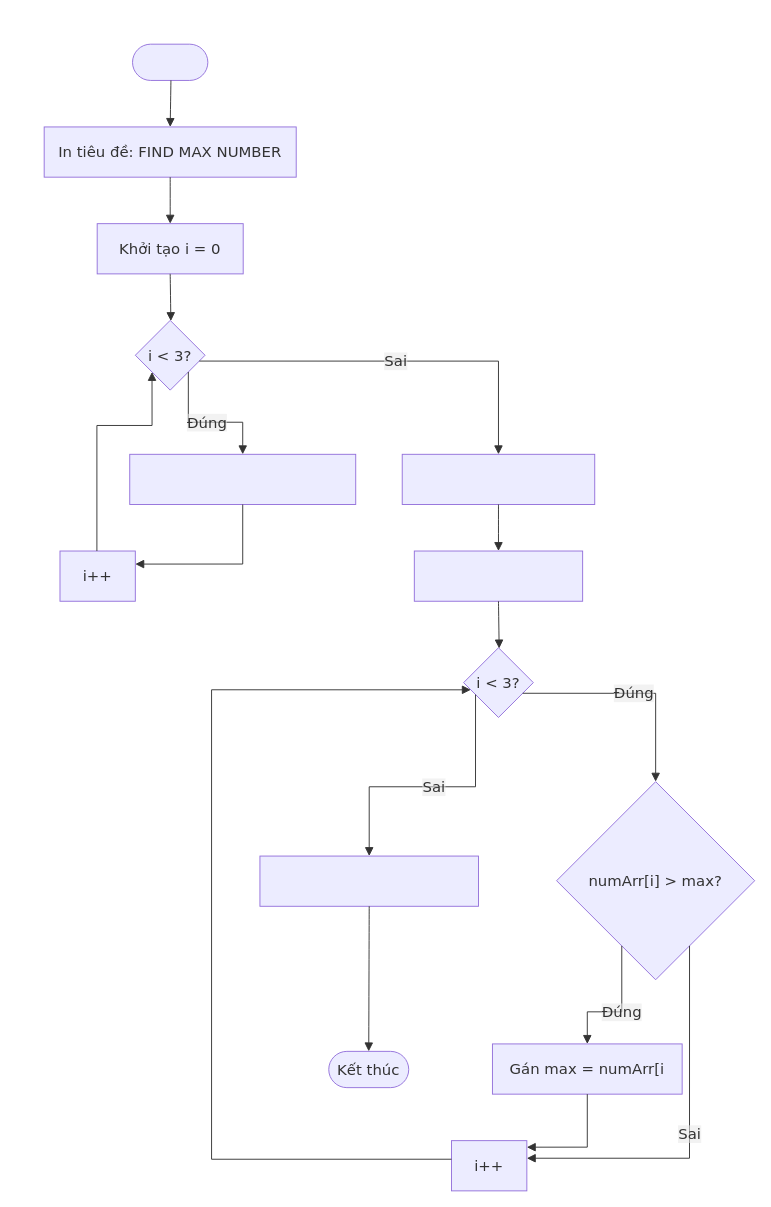
The diagram is 771 pixels wide and 1207 high, and some of its shapes have lost their labels. Here are the shapes that lost their labels. From the top down, the box of each, then its label:
(132, 43, 208, 80): Bắt đầu
(129, 453, 356, 505): Nhập giá trị cho numArr[i
(401, 453, 595, 505): Gán max = numArr[0
(413, 550, 583, 601): Khởi tạo lại i = 0
(259, 855, 478, 906): In kết quả: Number max
